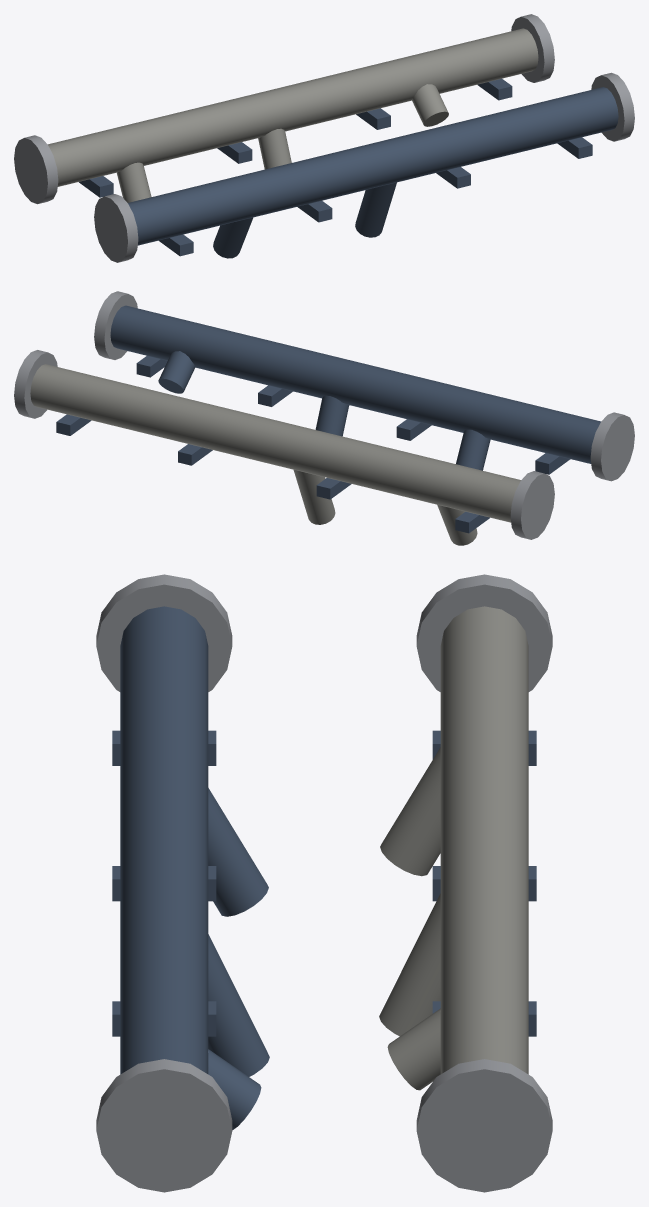
File: ko300_pipes.obj
3 views of the same model, one above another, from view 1: azimuth 30°, elevation 25°; view 2: azimuth 150°, elevation 25°; view 3: azimuth 270°, elevation 25° (orthographic). The views are drawn at different scales.
Parts seen in each view (by area): view 1: ko300_pipes; view 2: ko300_pipes; view 3: ko300_pipes.
Part boxes in pixels (box(x1,y1,x2,y2)): ko300_pipes: box(14, 14, 634, 262); ko300_pipes: box(14, 291, 634, 545); ko300_pipes: box(96, 574, 552, 1192).
Bounding box in the file's own units: 2.92 × 0.6409 × 1.14.
